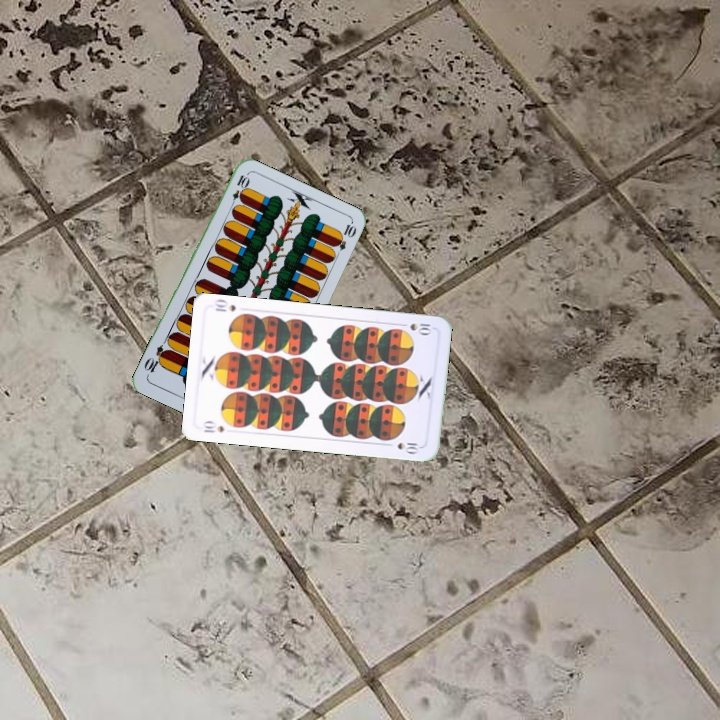E10: (227, 171, 250, 211)
S10: (395, 319, 433, 337), (199, 417, 227, 435)
